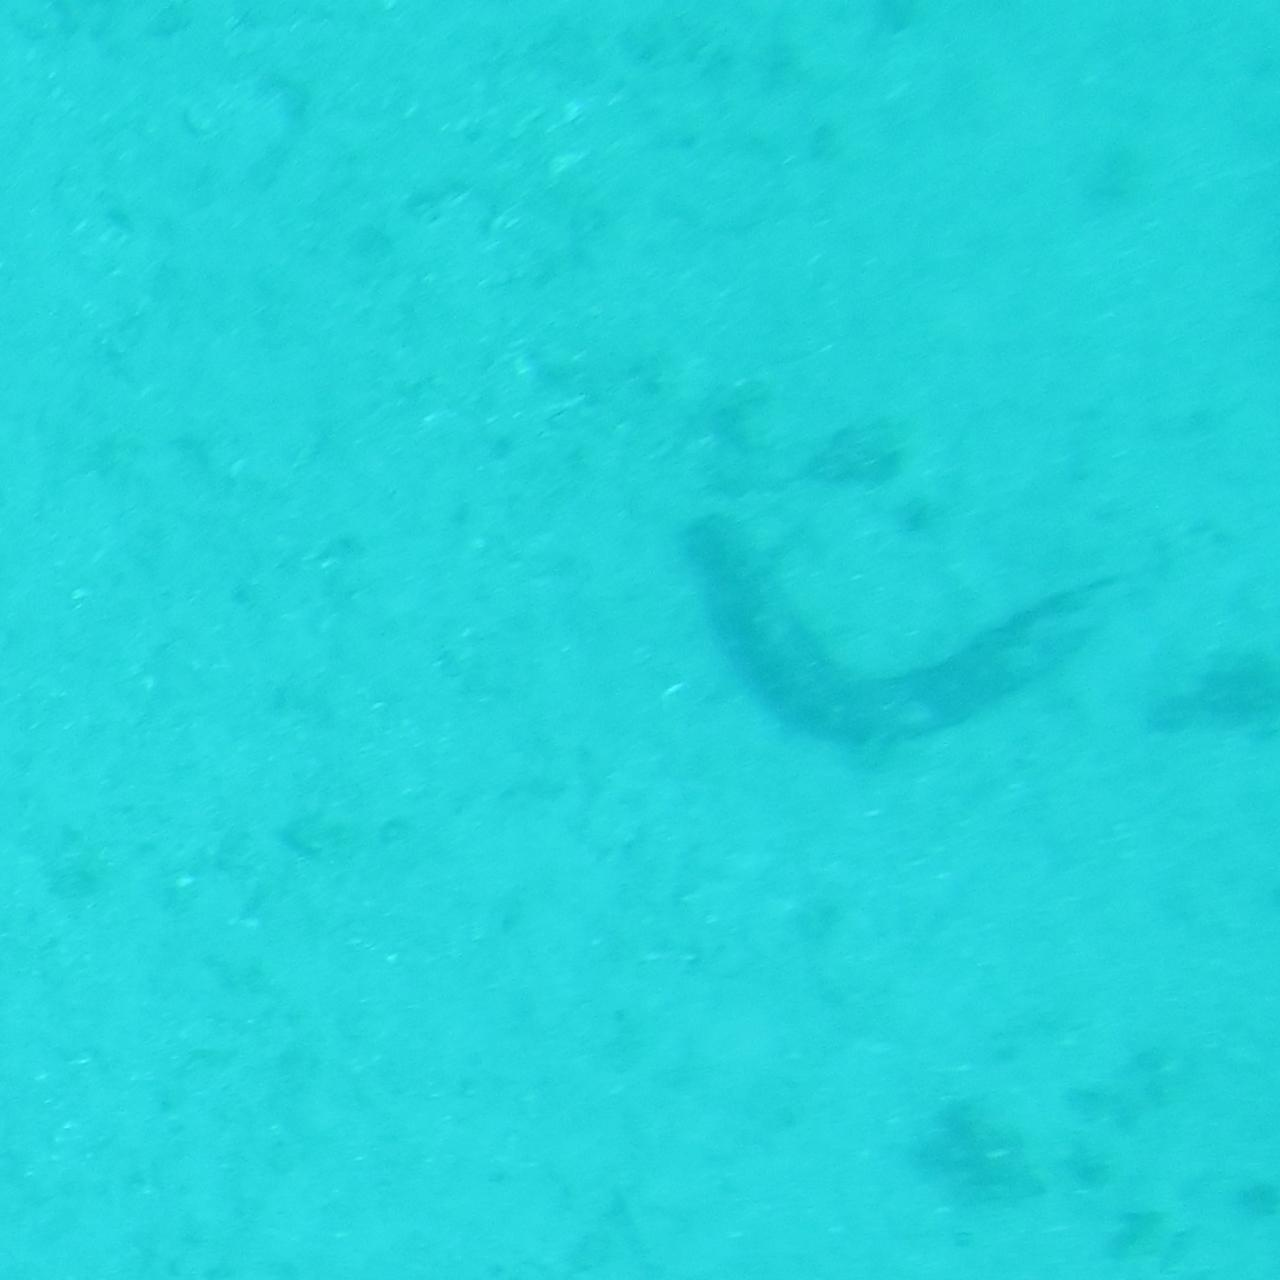Holothuria tubulosa: (685, 516, 1148, 764)
